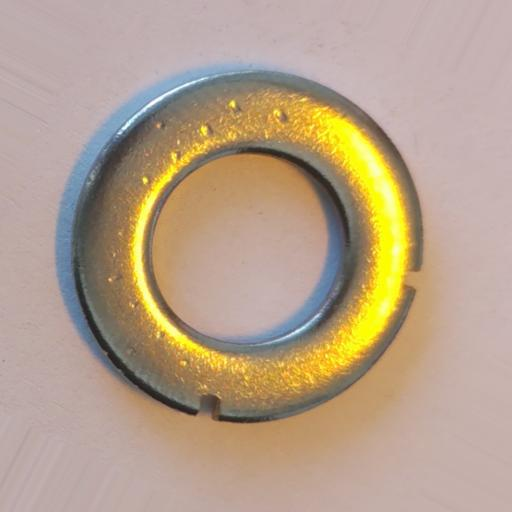burr: (398, 268, 422, 291)
